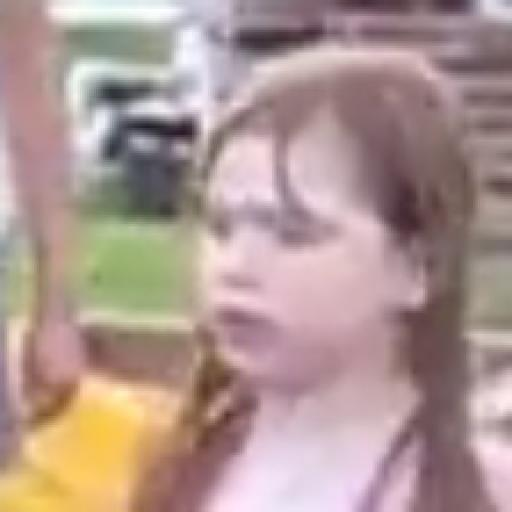Autism: (144, 42, 512, 484)
